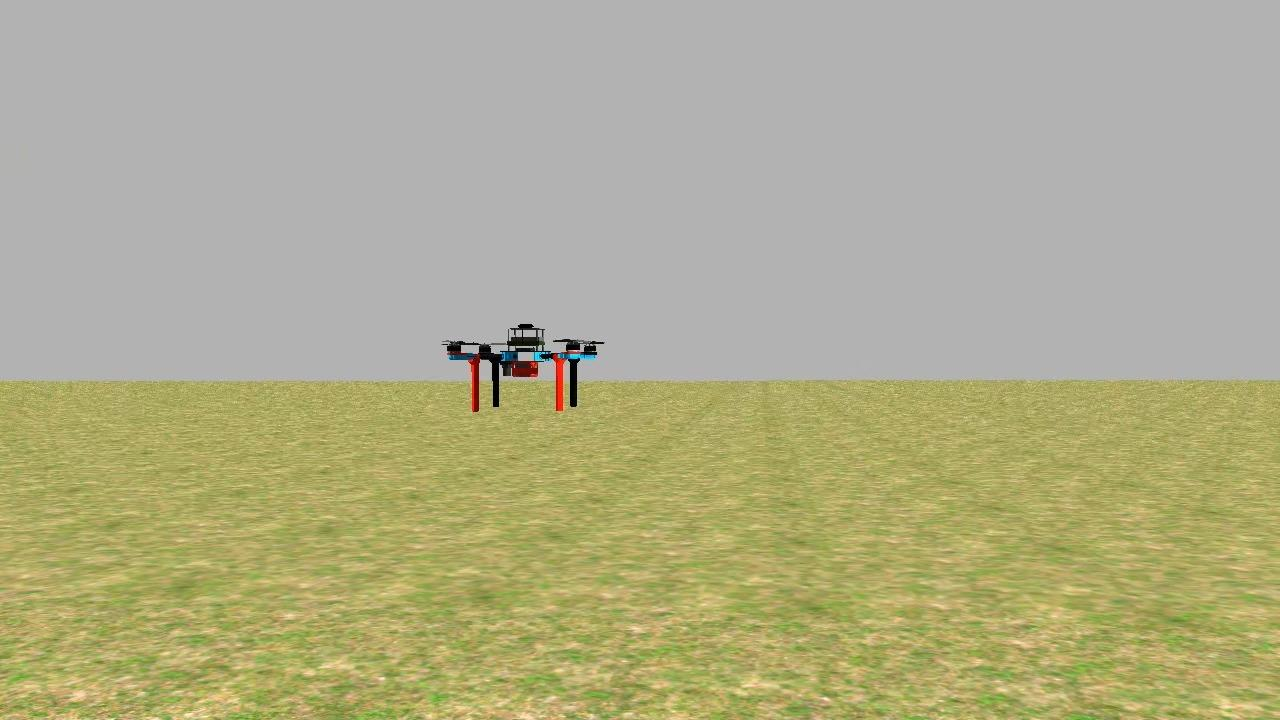UAV: (437, 300, 606, 429)
